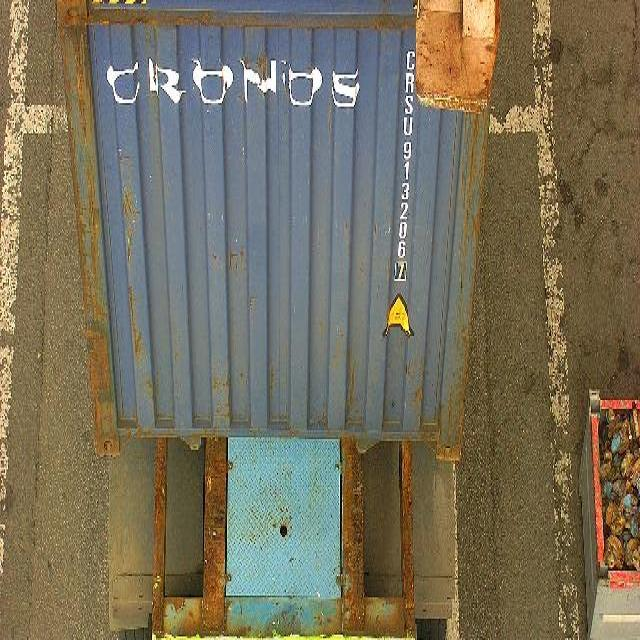container_number: (392, 46, 419, 286)
